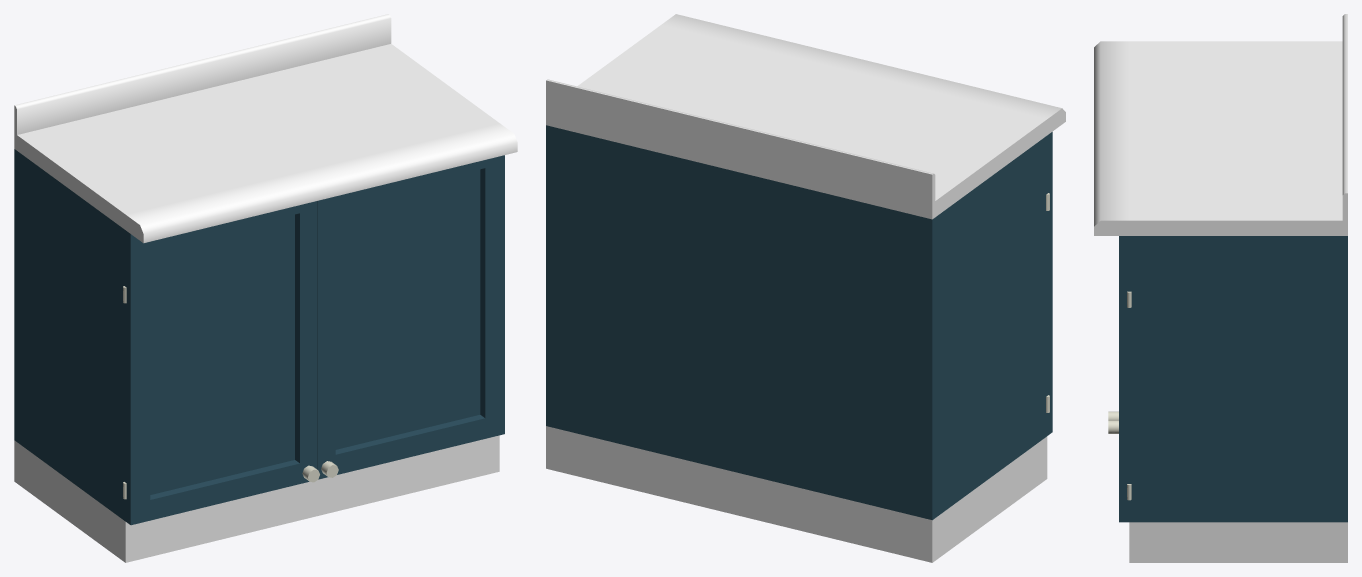
Rendered from Kitchen_A.fbx.
3 renders of one model, left to right at view 1: azimuth 30°, elevation 25°; view 2: azimuth 150°, elevation 25°; view 3: azimuth 270°, elevation 25°, orthographic. The views are drawn at different scales.
Parts seen in each view (by area): view 1: Kitchen_A, Kitchen_A_Door; view 2: Kitchen_A, Kitchen_A_Door; view 3: Kitchen_A.
Boxes of the visible parts, x1=… form: Kitchen_A: x1=14, y1=14, x2=517, y2=562; Kitchen_A_Door: x1=123, y1=201, x2=319, y2=525; Kitchen_A: x1=546, y1=14, x2=1065, y2=562; Kitchen_A_Door: x1=1046, y1=132, x2=1052, y2=435; Kitchen_A: x1=1094, y1=14, x2=1347, y2=562.
Size of the model in its own units: 101 by 96.05 by 59.82.
